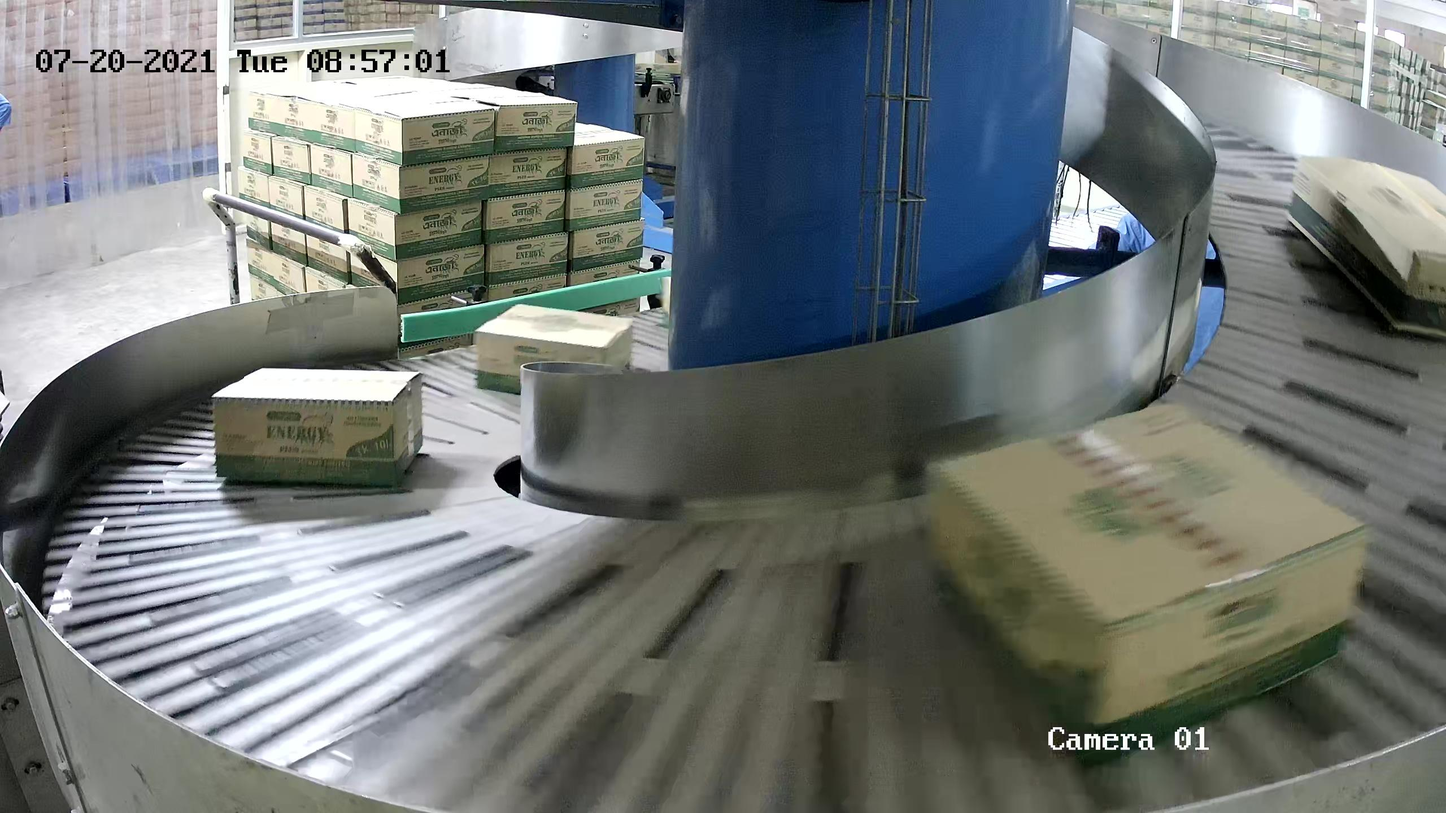Box: (922, 400, 1371, 765), (1285, 153, 1446, 338), (210, 367, 424, 487), (473, 303, 634, 396)
